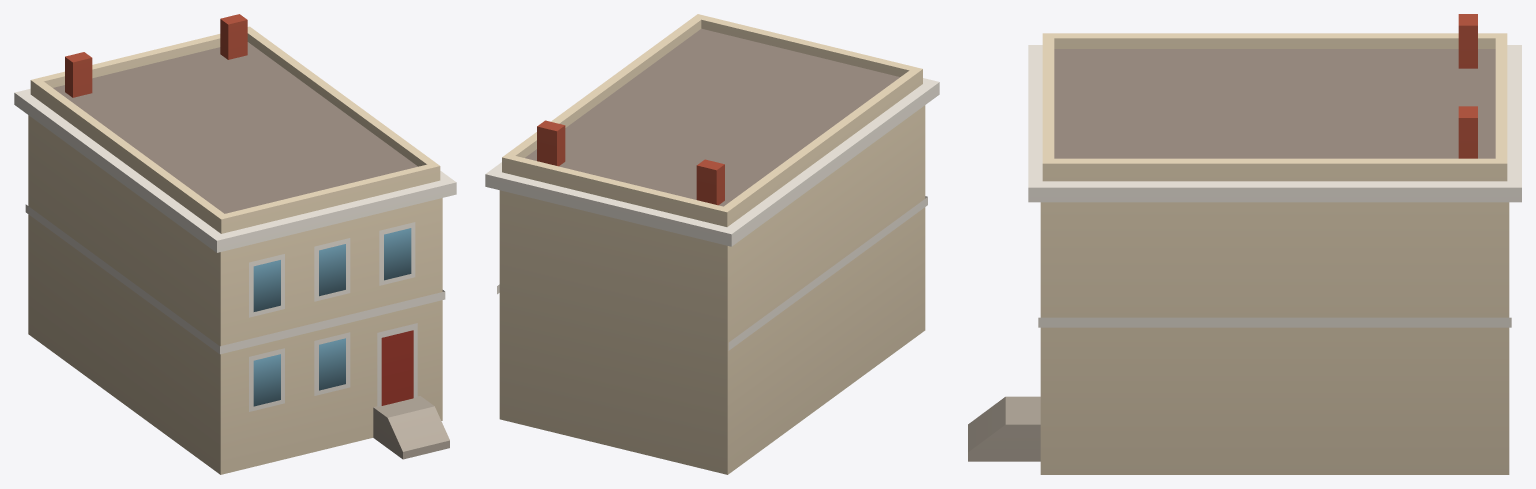
The model's file is beacon_n11_far.glb.
3 views of the same model, side by side, from view 1: azimuth 30°, elevation 25°; view 2: azimuth 150°, elevation 25°; view 3: azimuth 270°, elevation 25° (orthographic). The views are drawn at different scales.
Visible parts, largest first — view 1: beacon_n11_far; view 2: beacon_n11_far; view 3: beacon_n11_far.
Part boxes in pixels (box(x1,y1,x2,y2)): beacon_n11_far: box(14, 14, 456, 474); beacon_n11_far: box(485, 14, 939, 474); beacon_n11_far: box(968, 14, 1521, 474).
Bounding box in the file's own units: 8.64 × 9.69 × 14.18.
Materials: 1 (1 with a texture image).
